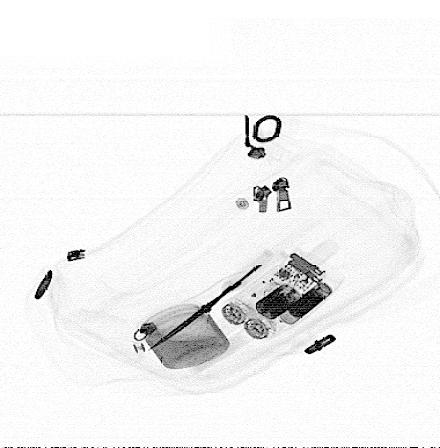Scissors: (146, 244, 288, 349)
